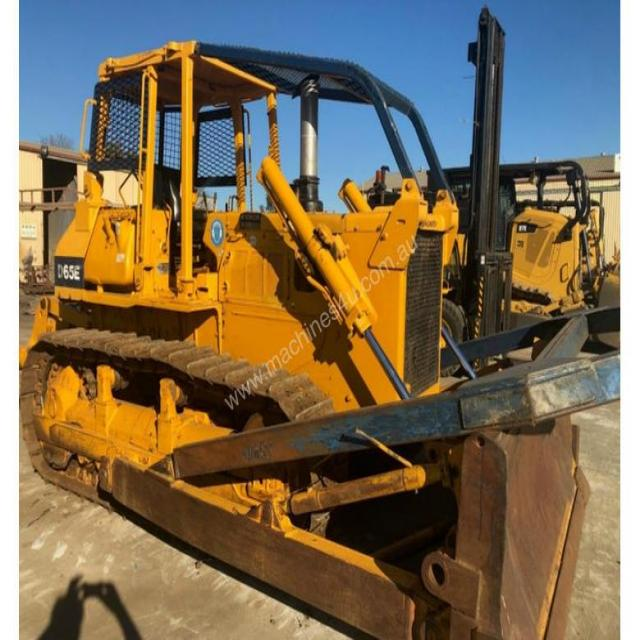Bulldozer: (17, 30, 617, 639)
